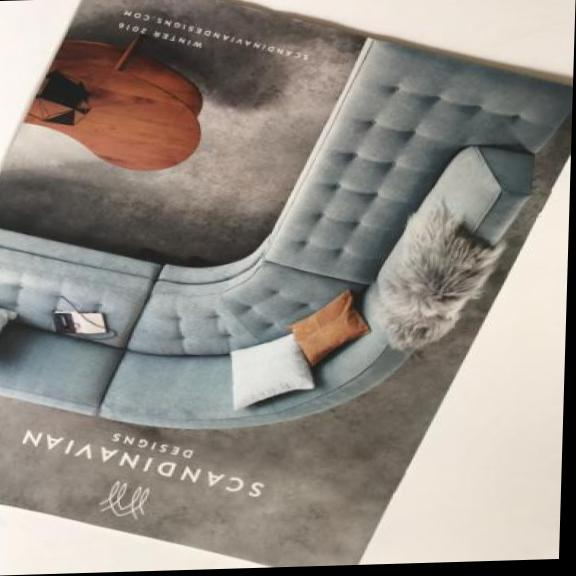Kertas: (0, 0, 573, 574)
